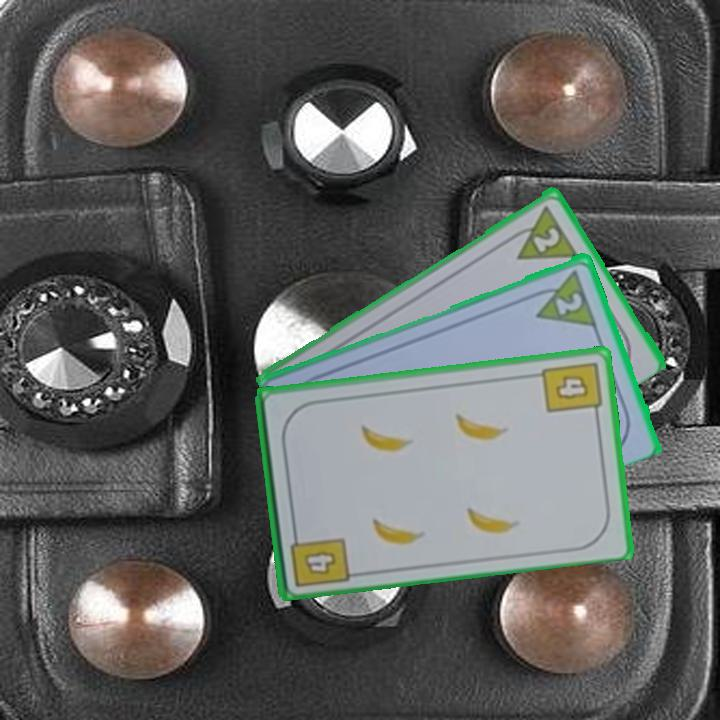2p: (526, 265, 599, 329), (529, 222, 563, 255)
4b: (286, 524, 351, 590), (538, 358, 604, 420)
